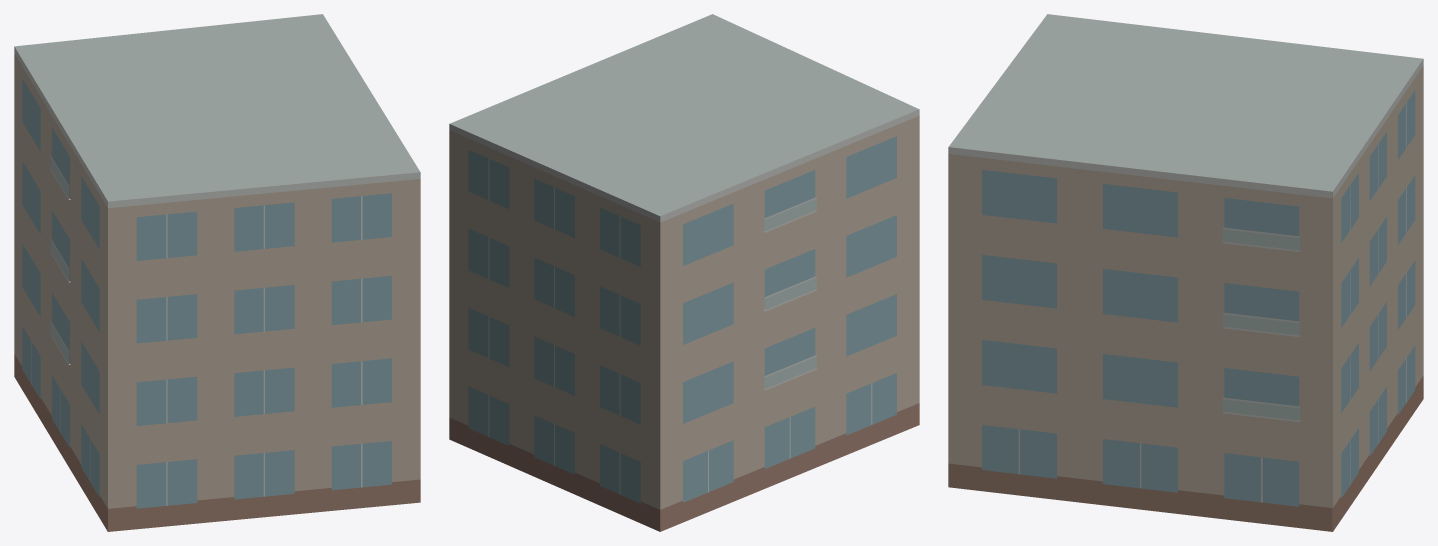
File: survey-upis-32705354.glb
The picture shows the model from 3 angles, left to right: view 1: azimuth 30°, elevation 25°; view 2: azimuth 150°, elevation 25°; view 3: azimuth 270°, elevation 25°; orthographic projection. The views are drawn at different scales.
Parts seen in each view (by area): view 1: survey-upis-32705354.tmp; view 2: survey-upis-32705354.tmp; view 3: survey-upis-32705354.tmp.
Boxes of the visible parts, <box> form: survey-upis-32705354.tmp: <box>14,14,420,531</box>; survey-upis-32705354.tmp: <box>449,14,919,531</box>; survey-upis-32705354.tmp: <box>948,14,1423,531</box>.
Size of the model in its own units: 13.67 by 12.2 by 15.45.
